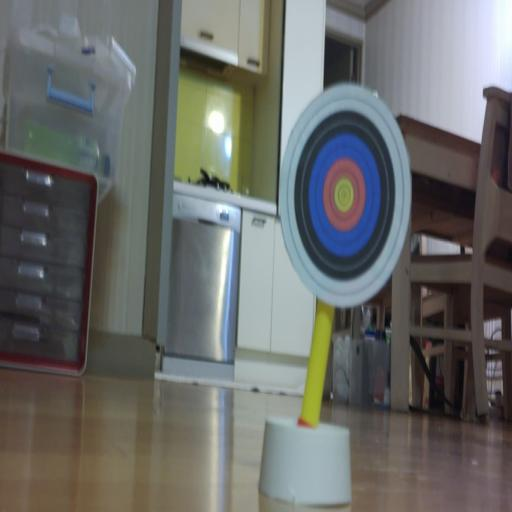target: (279, 84, 411, 308)
